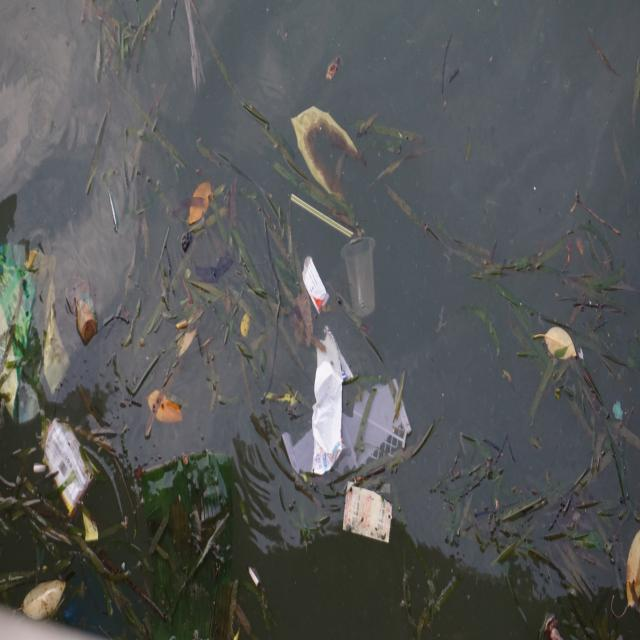Bungkus Makanan: (36, 413, 97, 520), (343, 480, 393, 545)
Bungkus Minuman: (2, 242, 66, 420), (340, 231, 383, 325)
